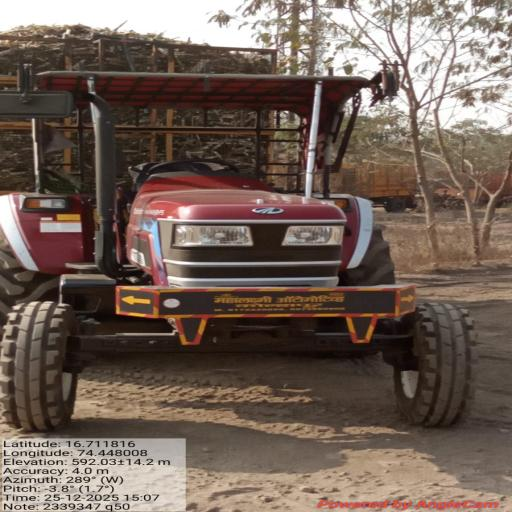number_plate: (199, 286, 369, 315)
